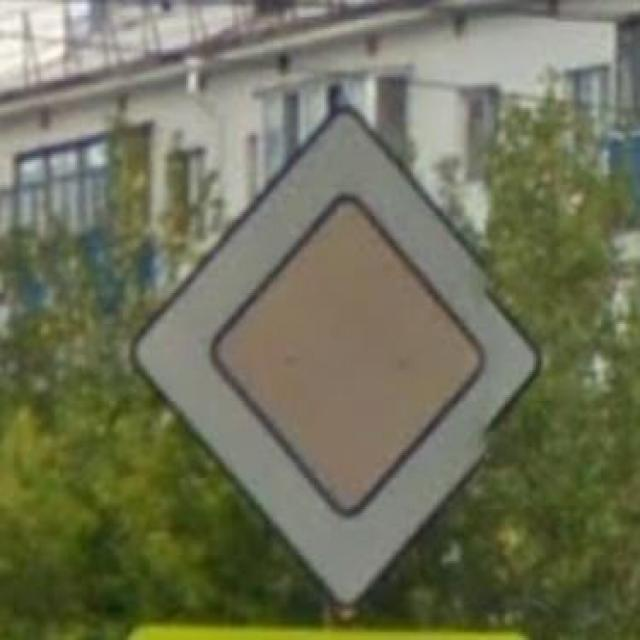Droga z pierwszenstwem: (126, 102, 544, 613)
